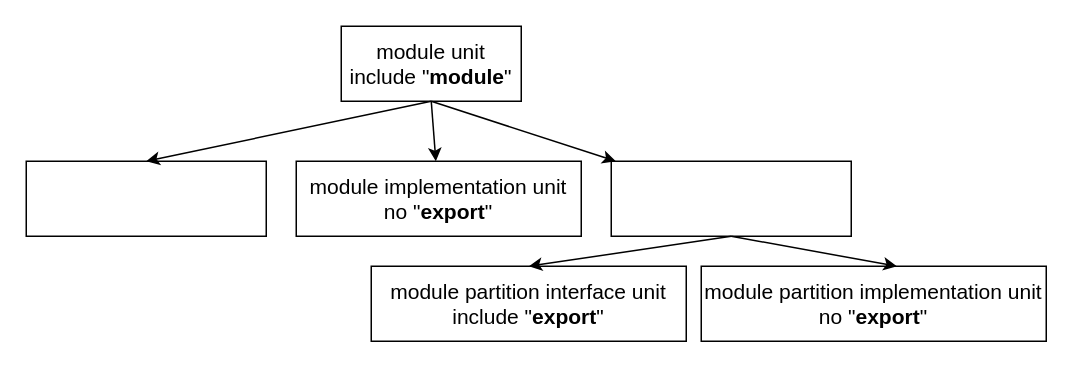
Image size: 1073x368. Some labels were removed from this diagram. Here are the shapes that lost their labels. From the top down, the centre of each, then its label:
[145,198]: module interface unit include " export "
[730,198]: module partition unit include " : "
